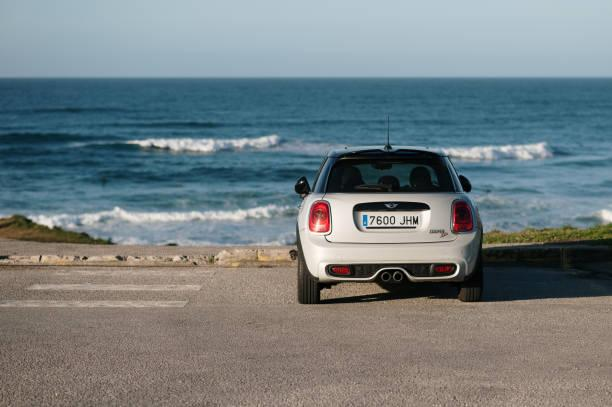mini: (380, 198, 403, 216)
